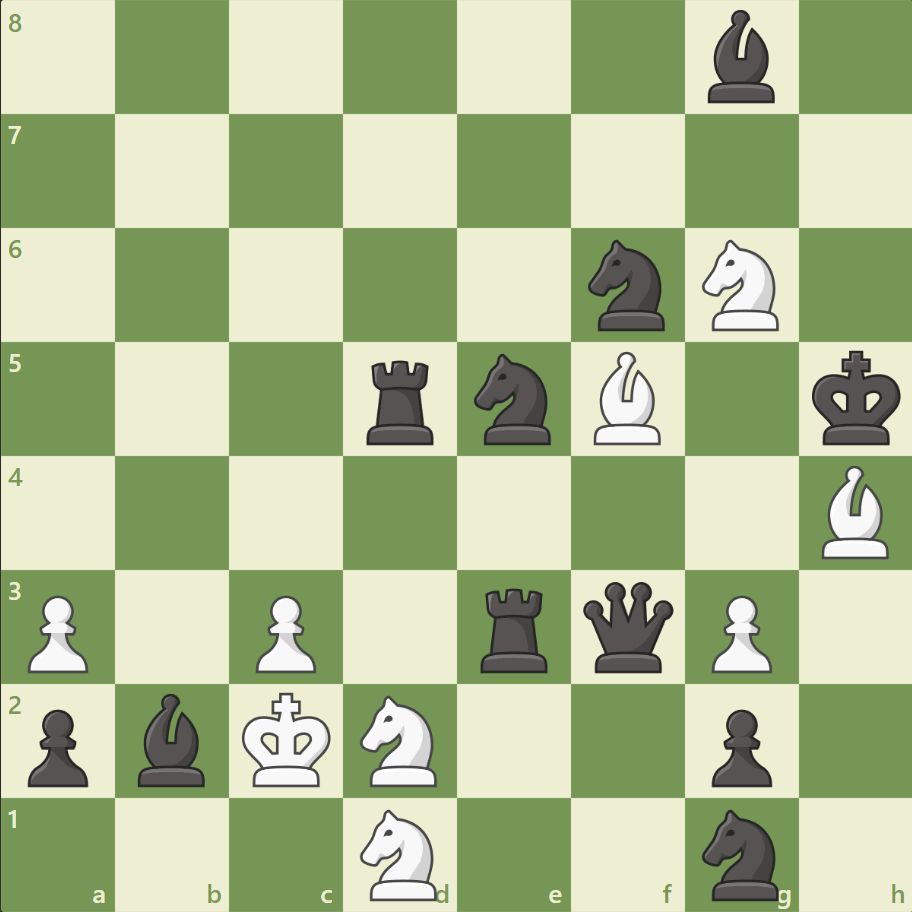B: (812, 460, 896, 563), (585, 347, 669, 449)
K: (238, 685, 338, 793)
N: (351, 688, 449, 791), (351, 802, 449, 904), (692, 234, 789, 337)
P: (20, 586, 95, 677), (247, 586, 322, 677), (701, 586, 776, 677)
b: (698, 6, 782, 109), (131, 687, 215, 790)
k: (806, 344, 906, 452)
n: (579, 234, 676, 337), (465, 348, 562, 450), (692, 802, 789, 904)
p: (20, 700, 95, 791), (701, 700, 776, 791)
q: (578, 576, 677, 676)
r: (473, 579, 556, 676), (360, 352, 442, 449)
